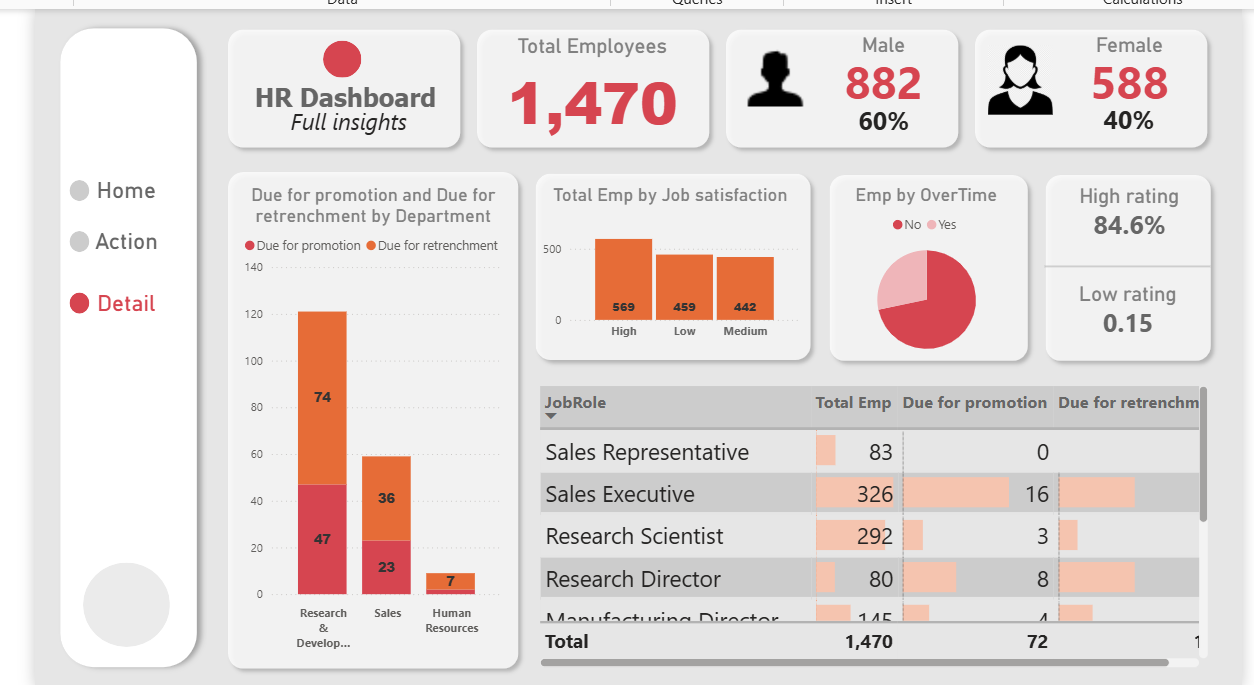

What the dashboard file says about the page in this screenshot:
{"tool":"powerbi","page":{"name":"Details","canvas":[1280,720],"ordinal":2},"visuals":[{"type":"shape","box":[16.5,9.6,166.5,699.2],"z":0},{"type":"shape","box":[195.4,12.4,264.3,143.1],"z":1000},{"type":"shape","box":[459.7,12.4,264.3,143.1],"z":2000},{"type":"shape","box":[724,12.4,264.3,143.1],"z":3000},{"type":"shape","box":[988.2,12.4,264.3,143.1],"z":4000},{"type":"shape","box":[195.2,164.4,325.9,544.6],"z":5000},{"type":"shape","box":[521.1,165.9,309.7,215.8],"z":6000},{"type":"shape","box":[833.6,166.7,228.3,215],"z":7000},{"type":"shape","box":[1063.1,166.7,193.3,215],"z":8000},{"type":"textbox","box":[209.7,71.2,238.7,51.4],"z":9000},{"type":"textbox","box":[209.7,97.6,251.9,55.4],"z":11000},{"type":"shape","box":[305.9,33,40.9,39.6],"z":12000},{"type":"card","title":"Total Employees","fields":{"Values":["All Measures.Total Emp"]},"box":[468,27.5,246.4,112.9],"z":13000},{"type":"card","title":"Male","fields":{"Values":["All Measures.Male"]},"box":[814.8,26.2,170.7,75.7],"z":14000},{"type":"card","fields":{"Values":["All Measures.Male %"]},"box":[834.1,90.8,132.1,55.1],"z":15000},{"type":"card","title":"Female","fields":{"Values":["All Measures.Female"]},"box":[1068.7,26.2,183.1,75.7],"z":16000},{"type":"card","fields":{"Values":["All Measures.Female %"]},"box":[1083.9,90.8,152.8,53.7],"z":17000},{"type":"image","box":[736.3,26.2,95,90.8],"z":18000},{"type":"image","box":[1004.7,33,79.8,84],"z":19000},{"type":"columnChart","fields":{"Category":["HR Analytics Data.Department"],"Y":["All Measures.Due for promotion","All Measures.Due for retirment"]},"box":[216.3,185.9,284.8,501.1],"z":20000},{"type":"tableEx","fields":{"Values":["HR Analytics Data.JobRole","All Measures.Total Emp","All Measures.Due for promotion","All Measures.Due for retirment"]},"box":[529.5,393.8,718.8,308.1],"z":21000},{"type":"columnChart","fields":{"Category":["HR Analytics Data.Job satisfaction"],"Y":["All Measures.Total Emp"]},"box":[532.8,186.4,281.8,173.2],"z":22000},{"type":"pieChart","title":"Emp by OverTime","fields":{"Category":["HR Analytics Data.OverTime"],"Y":["All Measures.Total Emp"]},"box":[820.3,186,248.9,192.1],"z":23000},{"type":"card","title":"High rating","fields":{"Values":["All Measures.% High emp rating"]},"box":[1066.7,186,186,61.6],"z":24000},{"type":"card","title":"Low rating","fields":{"Values":["All Measures.% Low emp rating"]},"box":[1065.5,289.9,186,61.6],"z":25000},{"type":"shape","box":[1070.1,265.7,176.1,14.7],"z":26000},{"type":"shape","box":[36.9,300.7,21.1,22.4],"z":27000},{"type":"actionButton","title":"Detail","box":[27.7,298,139.8,39.6],"z":28000},{"type":"shape","box":[36.9,236,21.1,22.4],"z":29000},{"type":"actionButton","title":"Action","box":[27.7,232.1,139.8,58],"z":30000},{"type":"shape","box":[36.9,180.7,21.1,22.4],"z":31000},{"type":"actionButton","title":"Home","box":[27.7,178,139.8,54.1],"z":32000},{"type":"shape","box":[51.4,586.8,92.3,89.7],"z":33000}]}

Visuals, with their boxes on the page's 1280x720 design canvas (x1, y1, x2, y2). These are canvas units, not pixel positions in the 1254x685 screenshot, which may show the page scaled, cropped or inside an application window:
shape: <box>16,10,183,709</box>
shape: <box>195,12,460,156</box>
shape: <box>460,12,724,156</box>
shape: <box>724,12,988,156</box>
shape: <box>988,12,1252,156</box>
shape: <box>195,164,521,709</box>
shape: <box>521,166,831,382</box>
shape: <box>834,167,1062,382</box>
shape: <box>1063,167,1256,382</box>
textbox: <box>210,71,448,123</box>
textbox: <box>210,98,462,153</box>
shape: <box>306,33,347,73</box>
"Total Employees" card: <box>468,28,714,140</box>
"Male" card: <box>815,26,986,102</box>
card - All Measures.Male %: <box>834,91,966,146</box>
"Female" card: <box>1069,26,1252,102</box>
card - All Measures.Female %: <box>1084,91,1237,144</box>
image: <box>736,26,831,117</box>
image: <box>1005,33,1084,117</box>
columnChart - HR Analytics Data.Department x All Measures.Due for promotion: <box>216,186,501,687</box>
tableEx - HR Analytics Data.JobRole x All Measures.Total Emp: <box>530,394,1248,702</box>
columnChart - HR Analytics Data.Job satisfaction x All Measures.Total Emp: <box>533,186,815,360</box>
"Emp by OverTime" pieChart: <box>820,186,1069,378</box>
"High rating" card: <box>1067,186,1253,248</box>
"Low rating" card: <box>1066,290,1252,352</box>
shape: <box>1070,266,1246,280</box>
shape: <box>37,301,58,323</box>
"Detail" actionButton: <box>28,298,168,338</box>
shape: <box>37,236,58,258</box>
"Action" actionButton: <box>28,232,168,290</box>
shape: <box>37,181,58,203</box>
"Home" actionButton: <box>28,178,168,232</box>
shape: <box>51,587,144,676</box>
